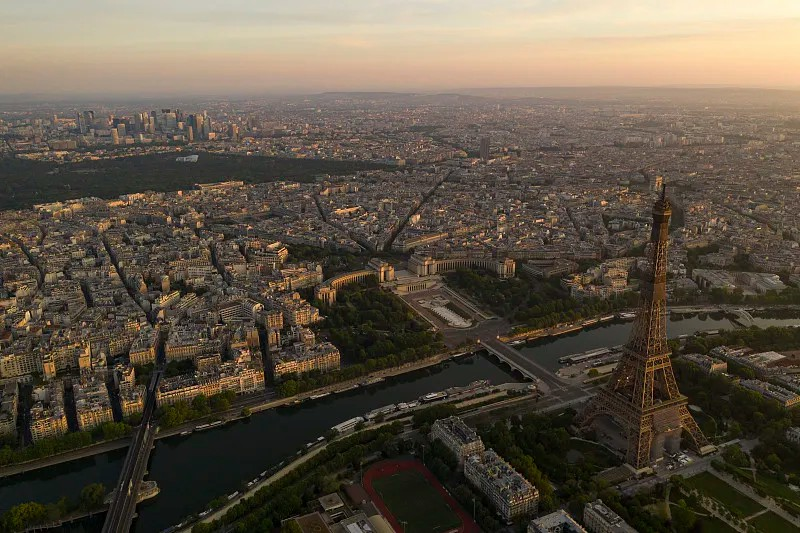Eiffel: (571, 183, 718, 477)
